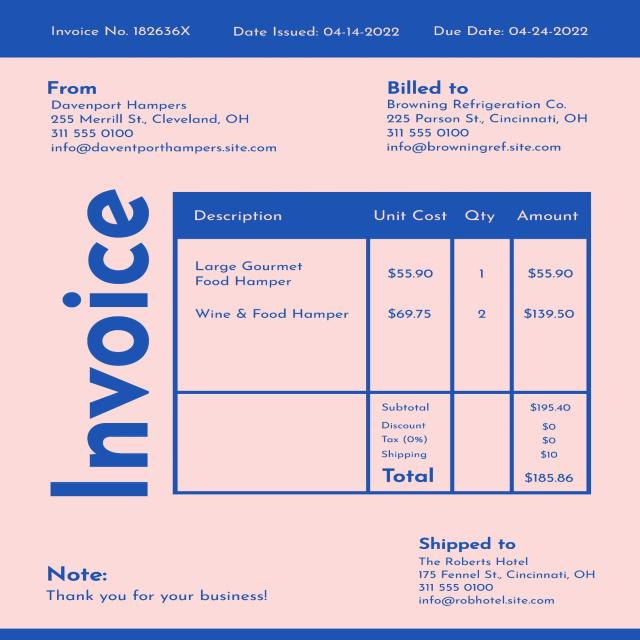paragraph: (46, 180, 169, 508), (30, 74, 308, 160), (362, 393, 594, 493), (366, 70, 596, 168), (402, 524, 604, 610), (43, 550, 281, 612), (222, 13, 407, 48), (35, 13, 201, 44), (430, 15, 599, 42)
table: (174, 190, 606, 343)
